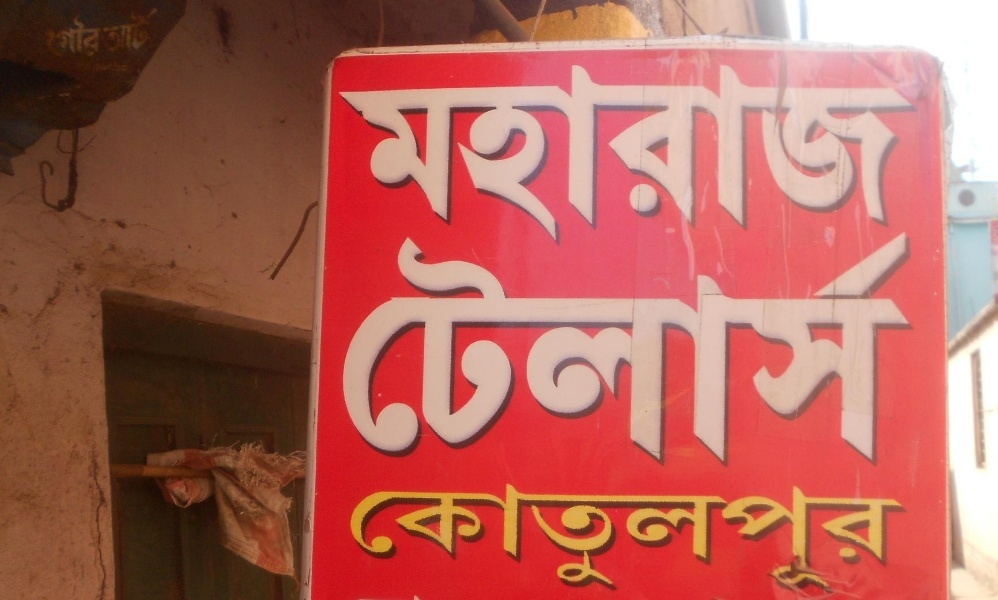text: (353, 228, 368, 470), (369, 228, 384, 470), (385, 228, 400, 470), (401, 228, 416, 470), (417, 228, 432, 470), (433, 228, 448, 470), (449, 228, 464, 470), (465, 228, 480, 470), (481, 228, 496, 470), (497, 228, 512, 470), (513, 228, 528, 470), (529, 228, 544, 470), (545, 228, 560, 470), (561, 228, 576, 470), (577, 228, 592, 470), (593, 228, 608, 470), (609, 228, 624, 470), (625, 228, 640, 470), (641, 228, 656, 470), (657, 228, 672, 470), (673, 228, 688, 470), (689, 228, 704, 470), (705, 228, 720, 470), (721, 228, 736, 470), (737, 228, 752, 470), (753, 228, 768, 470), (769, 228, 784, 470), (785, 228, 800, 470), (801, 228, 816, 470), (817, 228, 832, 470), (833, 228, 848, 470), (849, 228, 864, 470), (865, 228, 880, 470), (881, 228, 896, 470), (897, 228, 912, 470), (353, 63, 368, 245), (369, 63, 384, 245), (385, 63, 400, 245), (401, 63, 416, 245), (417, 63, 432, 245), (433, 63, 448, 245), (449, 63, 464, 245), (465, 63, 480, 245), (481, 63, 496, 245), (497, 63, 512, 245), (513, 63, 528, 245), (529, 63, 544, 245), (545, 63, 560, 245), (561, 63, 576, 245), (577, 63, 592, 245), (593, 63, 608, 245), (609, 63, 624, 245), (625, 63, 640, 245), (641, 63, 656, 245), (657, 63, 672, 245), (673, 63, 688, 245), (689, 63, 704, 245), (705, 63, 720, 245), (721, 63, 736, 245), (737, 63, 752, 245), (753, 63, 768, 245), (769, 63, 784, 245), (785, 63, 800, 245), (801, 63, 816, 245), (817, 63, 832, 245), (833, 63, 848, 245), (849, 63, 864, 245), (865, 63, 880, 245), (881, 63, 896, 245), (897, 63, 912, 245), (338, 63, 352, 245), (344, 228, 352, 470), (353, 481, 368, 595), (369, 481, 384, 595), (385, 481, 400, 595), (401, 481, 416, 595), (417, 481, 432, 595), (433, 481, 448, 595), (449, 481, 464, 595), (465, 481, 480, 595), (481, 481, 496, 595), (497, 481, 512, 595), (513, 481, 528, 595), (529, 481, 544, 595), (545, 481, 560, 595), (561, 481, 576, 595), (577, 481, 592, 595), (593, 481, 608, 595), (609, 481, 624, 595), (625, 481, 640, 595), (641, 481, 656, 595), (657, 481, 672, 595), (673, 481, 688, 595), (689, 481, 704, 595), (705, 481, 720, 595), (721, 481, 736, 595), (737, 481, 752, 595), (753, 481, 768, 595), (769, 481, 784, 595), (785, 481, 800, 595), (801, 481, 816, 595), (817, 481, 832, 595), (833, 481, 848, 595), (849, 481, 864, 595), (865, 481, 880, 595), (881, 481, 896, 595), (913, 228, 920, 470), (897, 481, 905, 595), (49, 15, 64, 64), (65, 15, 80, 64), (81, 15, 96, 64), (346, 481, 352, 595), (113, 9, 128, 54), (129, 9, 144, 54), (145, 9, 159, 54), (101, 9, 112, 54), (97, 15, 103, 64), (43, 15, 48, 64), (913, 63, 914, 245)
